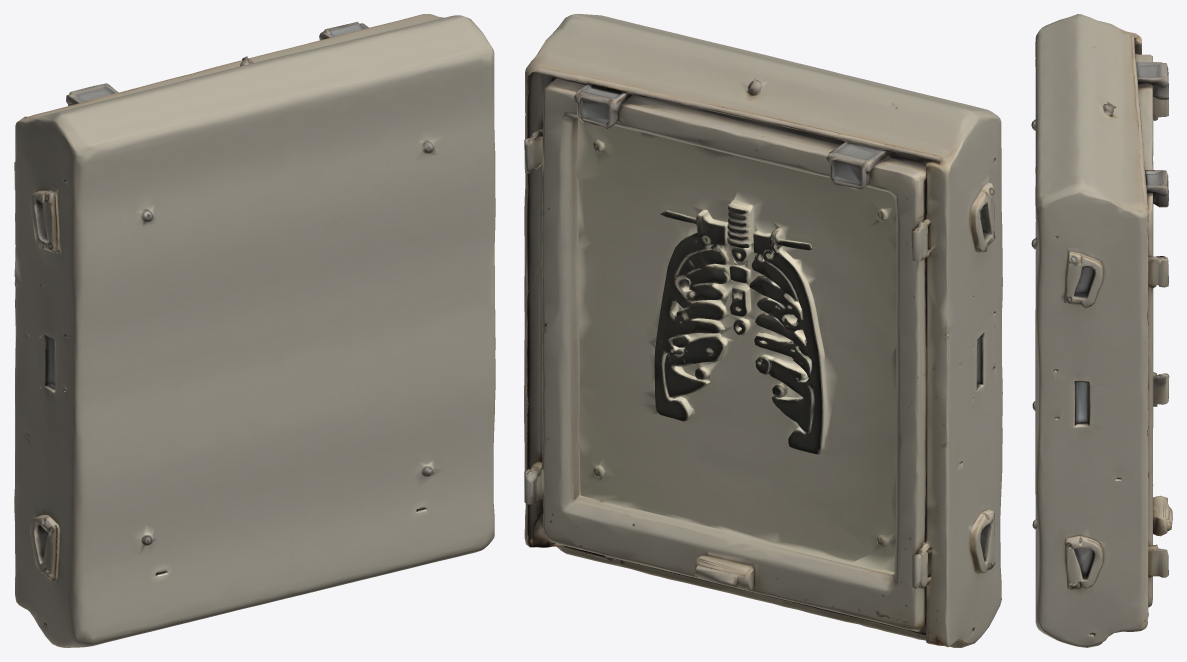
Rendered from theme-xray-viewer-v05.glb.
The picture shows the model from 3 angles, left to right: view 1: azimuth 30°, elevation 25°; view 2: azimuth 150°, elevation 25°; view 3: azimuth 270°, elevation 25°; orthographic projection. The views are drawn at different scales.
Visible parts, largest first — view 1: tripo_node_cc7d3d71-df45-4946-8268-71b02e7bf233; view 2: tripo_node_cc7d3d71-df45-4946-8268-71b02e7bf233; view 3: tripo_node_cc7d3d71-df45-4946-8268-71b02e7bf233.
Part boxes in pixels (bbox=[...]): tripo_node_cc7d3d71-df45-4946-8268-71b02e7bf233: bbox=[14, 14, 495, 647]; tripo_node_cc7d3d71-df45-4946-8268-71b02e7bf233: bbox=[524, 14, 1002, 647]; tripo_node_cc7d3d71-df45-4946-8268-71b02e7bf233: bbox=[1031, 14, 1172, 647].
Bounding box in the file's own units: 0.56 × 0.65 × 0.1791.
Materials: 1 (1 with a texture image).
